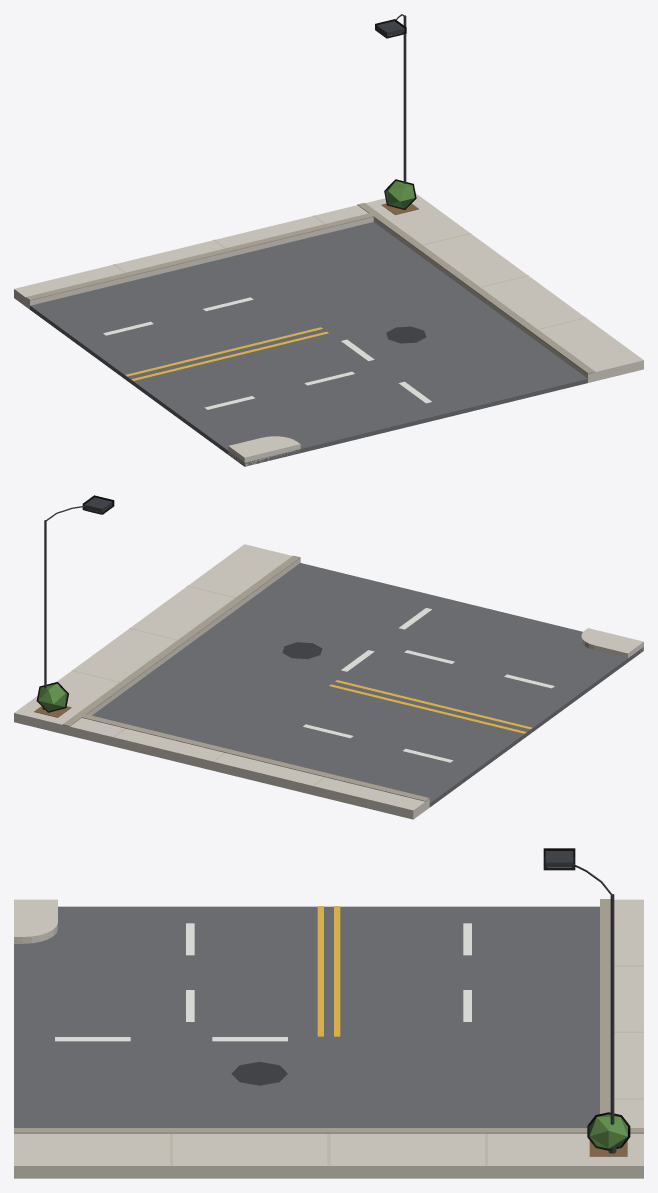
Rendered from Yol_kose_sc.fbx.
3 renders of one model, top to bottom at view 1: azimuth 30°, elevation 25°; view 2: azimuth 150°, elevation 25°; view 3: azimuth 270°, elevation 25°, orthographic. The views are drawn at different scales.
Parts seen in each view (by area): view 1: Yol_kose_sc; view 2: Yol_kose_sc; view 3: Yol_kose_sc.
Boxes of the visible parts, x1,y1,x2,y2 form: Yol_kose_sc: [14, 14, 643, 466]; Yol_kose_sc: [14, 495, 643, 819]; Yol_kose_sc: [14, 848, 643, 1178].
Size of the model in its own units: 10 by 5.04 by 10.
